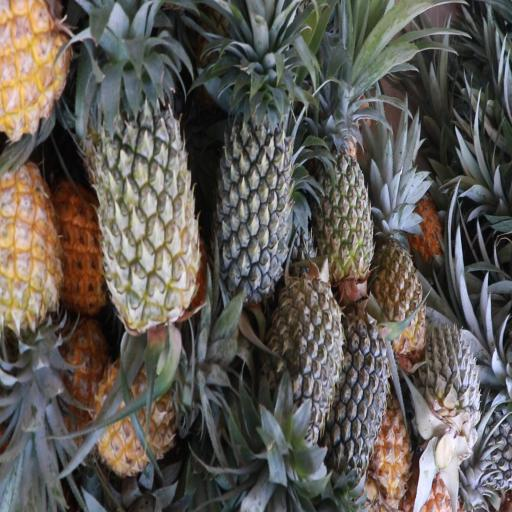------------------------------: (87, 68, 198, 321), (312, 121, 373, 283)
Pineapple - v8 v1: (0, 166, 65, 386), (89, 350, 202, 470), (373, 184, 428, 354)
